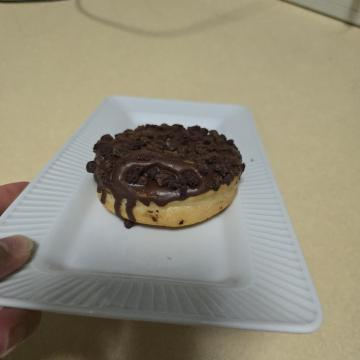doughnut: (110, 105, 238, 288)
